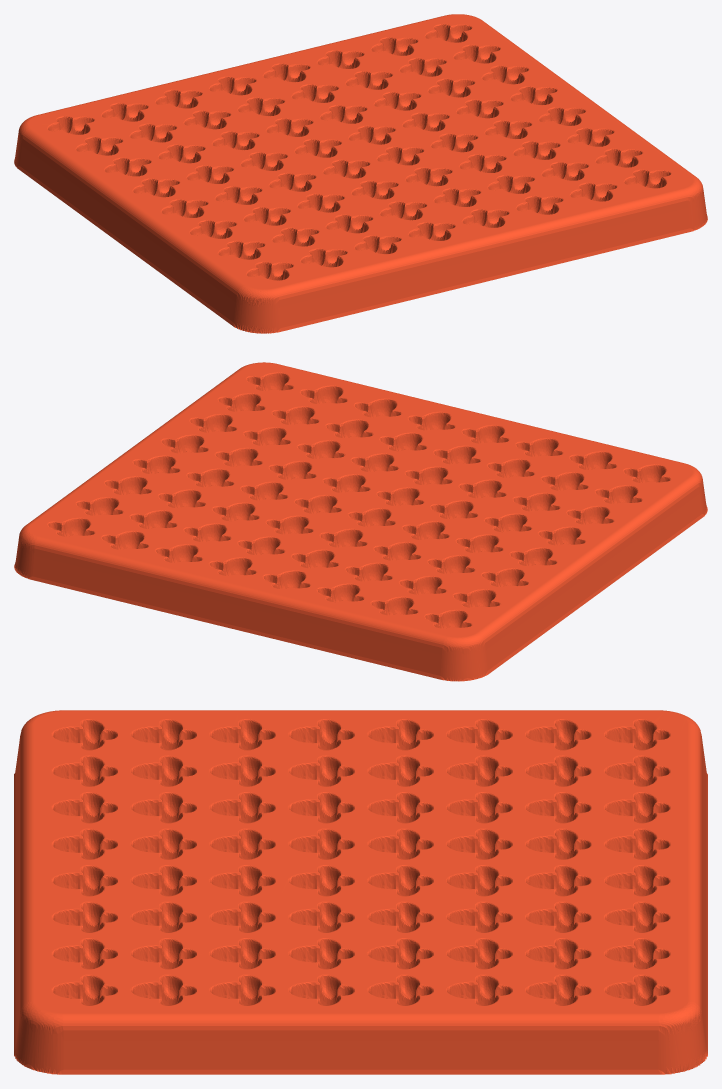
The model's file is mold.glb.
The picture shows the model from 3 angles, top to bottom: view 1: azimuth 30°, elevation 25°; view 2: azimuth 150°, elevation 25°; view 3: azimuth 270°, elevation 25°; orthographic projection. The views are drawn at different scales.
Parts seen in each view (by area): view 1: geometry_0; view 2: geometry_0; view 3: geometry_0.
Boxes of the visible parts, x1=… form: geometry_0: x1=14, y1=14, x2=707, y2=333; geometry_0: x1=14, y1=362, x2=707, y2=681; geometry_0: x1=14, y1=710, x2=707, y2=1074.
Bounding box in the file's own units: 0.1355 × 0.0105 × 0.1247.
